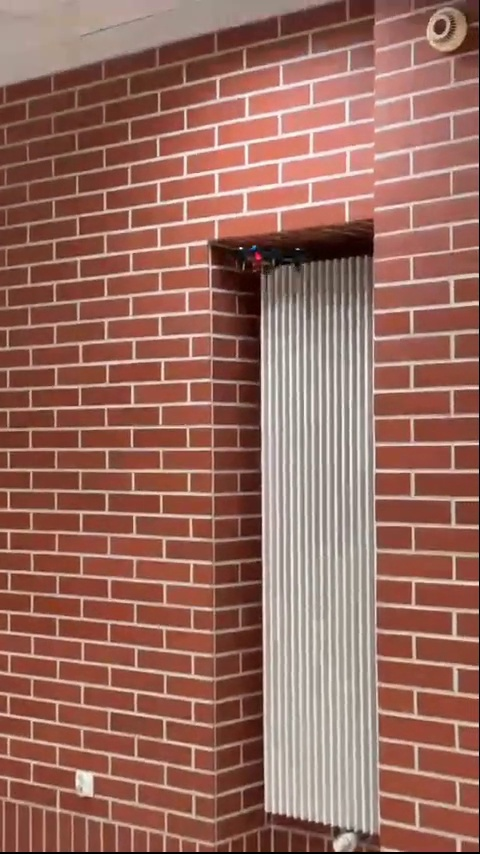drone: (226, 237, 324, 277)
